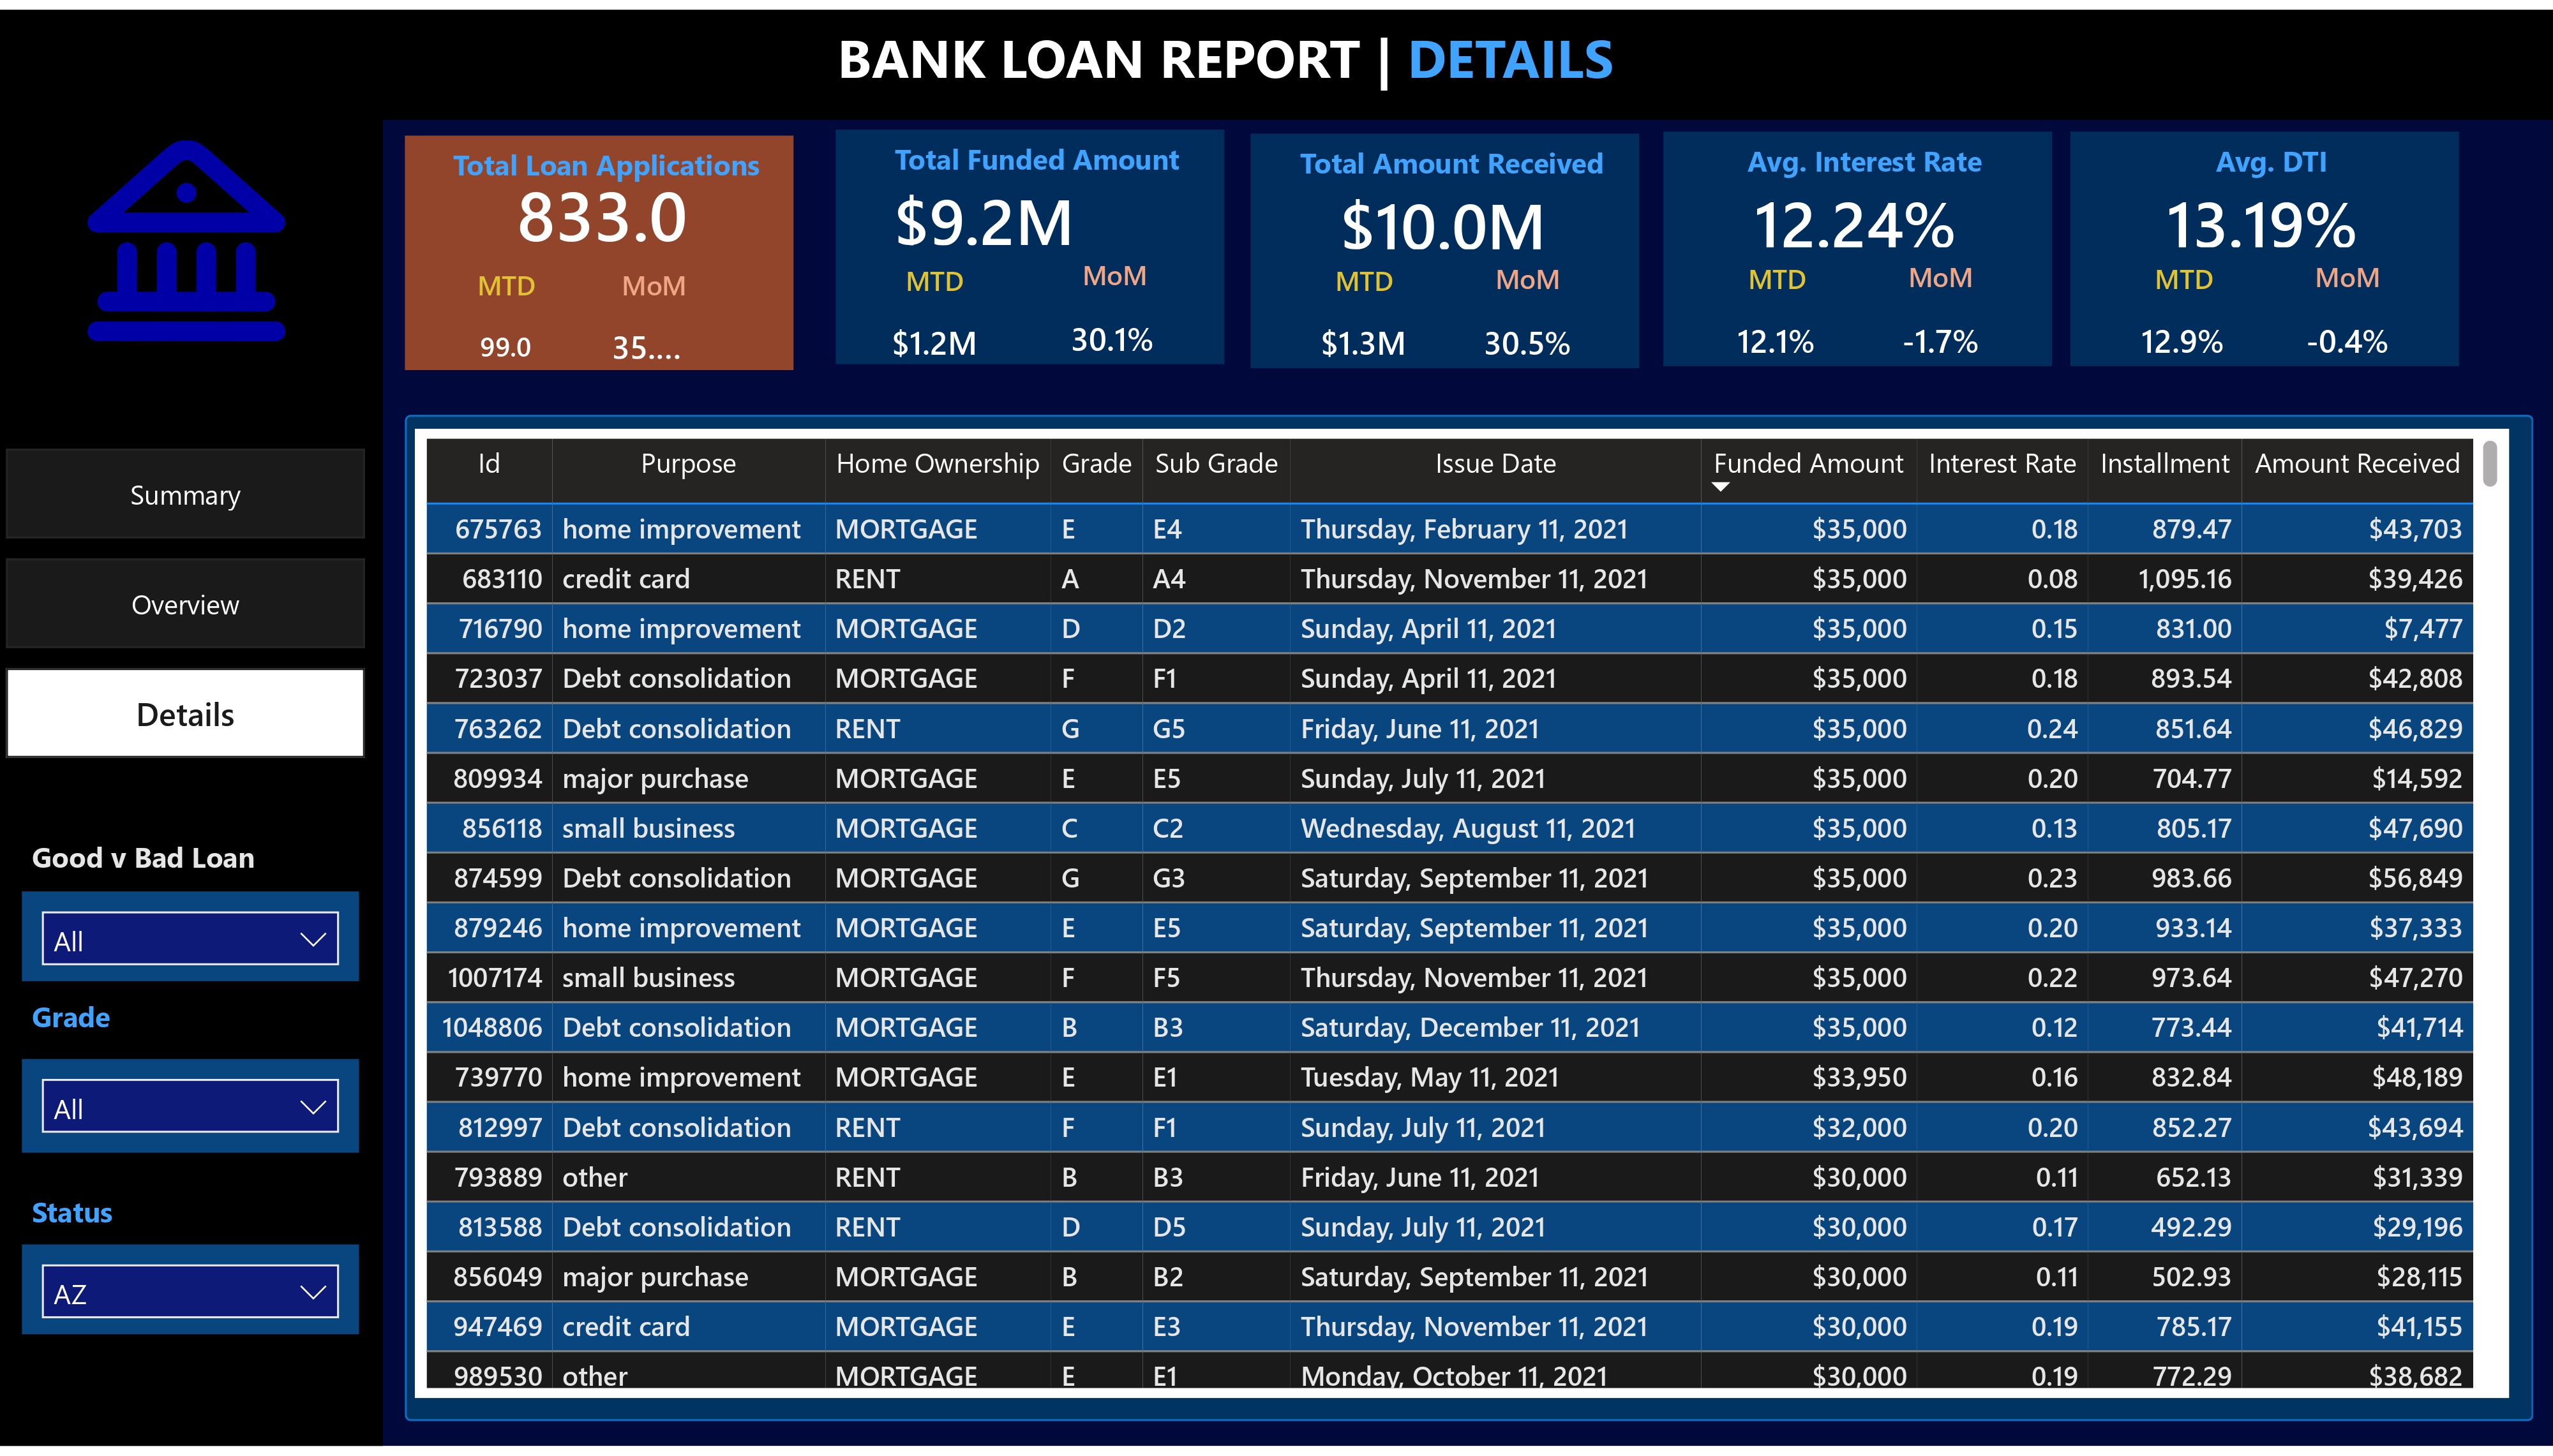

Layout of this report page (visuals, bound fields, positions):
{"tool":"powerbi","page":{"name":"Details","canvas":[1280,720],"ordinal":2},"visuals":[{"type":"shape","box":[0,0,1280,55],"z":0},{"type":"shape","box":[419.1,60,194.9,117.6],"z":0,"group":"g2"},{"type":"shape","box":[833.9,60.9,194.9,117.6],"z":0,"group":"g4"},{"type":"shape","box":[1037.5,60.9,194.9,117.6],"z":0,"group":"g5"},{"type":"shape","box":[627.3,61.8,194.9,117.6],"z":0,"group":"g3"},{"type":"shape","box":[203.3,63.3,194.9,117.6],"z":0,"group":"g1"},{"type":"shape","box":[0,55.4,192,665.2],"z":1000},{"type":"cardVisual","fields":{"Data":["Measure Table (2).Total Loan Applications"]},"box":[202.4,68.4,200.7,66],"z":1000,"group":"g1"},{"type":"cardVisual","fields":{"Data":["Measure Table (2).Total Funded Amount"]},"box":[419.1,72,193,63],"z":1000,"group":"g2"},{"type":"cardVisual","fields":{"Data":["Measure Table (2).Average Interest Rate"]},"box":[833.9,72.9,193,63],"z":1000,"group":"g4"},{"type":"cardVisual","fields":{"Data":["Measure Table (2).Total Avg DTI"]},"box":[1037.5,72.9,193,63],"z":1000,"group":"g5"},{"type":"cardVisual","fields":{"Data":["Measure Table (2).Total Received Amount"]},"box":[627.3,73.8,193,63],"z":1000,"group":"g3"},{"type":"textbox","box":[414.9,0,448.5,57.1],"z":2000},{"type":"textbox","box":[436.2,60.1,168,35],"z":2000,"group":"g2"},{"type":"textbox","box":[850.9,61,168,35],"z":2000,"group":"g4"},{"type":"textbox","box":[1054.5,61,168,35],"z":2000,"group":"g5"},{"type":"textbox","box":[644.3,61.9,168,35],"z":2000,"group":"g3"},{"type":"textbox","box":[220.4,63.4,168,35],"z":2000,"group":"g1"},{"type":"group","id":"g1","title":"Group 1","box":[202.4,63.3,200.7,129.5],"z":3000},{"type":"cardVisual","title":"MTD","fields":{"Data":["Measure Table (2).MTD Avg Interest Rate"]},"box":[830.9,125.6,120,64.5],"z":3000,"group":"g4"},{"type":"cardVisual","title":"MTD","fields":{"Data":["Measure Table (2).MTD Avg DTI"]},"box":[1034.5,125.6,120,64.5],"z":3000,"group":"g5"},{"type":"cardVisual","title":"MTD","fields":{"Data":["Measure Table (2).MTD Received Amount"]},"box":[624.3,126.5,120,64.5],"z":3000,"group":"g3"},{"type":"cardVisual","title":"MTD","fields":{"Data":["Measure Table (2).MTD Funded Amount"]},"box":[410,127.1,117.1,64.3],"z":3000,"group":"g2"},{"type":"cardVisual","title":"MTD","fields":{"Data":["Measure Table (2).MTD Loan Applications"]},"box":[208.4,129.4,91.7,63.3],"z":3000,"group":"g1"},{"type":"group","id":"g2","title":"Group 1","box":[410,60,204.3,131.4],"z":4000},{"type":"cardVisual","title":"MoM","fields":{"Data":["Measure Table (2).MoM Funded Amount"]},"box":[507.5,124,102,65.3],"z":4000,"group":"g2"},{"type":"cardVisual","title":"MoM","fields":{"Data":["Measure Table (2).MoM Avg Interest Rate"]},"box":[922.3,124.9,102,65.3],"z":4000,"group":"g4"},{"type":"cardVisual","title":"MoM","fields":{"Data":["Measure Table (2).MoM Avg DTI"]},"box":[1125.9,124.9,102,65.3],"z":4000,"group":"g5"},{"type":"cardVisual","title":"MoM","fields":{"Data":["Measure Table (2).MoM Received Amount"]},"box":[715.7,125.8,102,65.3],"z":4000,"group":"g3"},{"type":"cardVisual","title":"MoM","fields":{"Data":["Measure Table (2).MoM Loan Application"]},"box":[278.4,129.4,100,63.3],"z":4000,"group":"g1"},{"type":"group","id":"g3","title":"Group 1","box":[624.3,61.8,197.8,129.3],"z":5000},{"type":"group","id":"g4","title":"Group 1","box":[830.9,60.9,197.3,129.1],"z":6000},{"type":"shape","box":[202.7,202.7,1067.2,504.6],"z":7000},{"type":"group","id":"g5","title":"Group 1","box":[1034.5,60.9,197.3,129.1],"z":8000},{"type":"slicer","fields":{"Values":["financial_loan.Good Loan Vs Bad Loan"]},"box":[11.3,442.2,168.7,45.4],"z":9000},{"type":"slicer","fields":{"Values":["financial_loan.grade"]},"box":[11.3,525.8,168.7,46.8],"z":10000},{"type":"slicer","fields":{"Values":["financial_loan.address_state"]},"box":[11.3,619.4,168.7,45.4],"z":11000},{"type":"textbox","box":[11.3,588.2,126.1,31.2],"z":12000},{"type":"textbox","box":[11.3,409.6,148.8,31.2],"z":13000},{"type":"textbox","box":[11.3,490.4,126.1,35.4],"z":14000},{"type":"tableEx","fields":{"Values":["financial_loan.id","financial_loan.purpose","financial_loan.home_ownership","financial_loan.grade","financial_loan.sub_grade","financial_loan.issue_date","Measure Table (2).Total Funded Amount","Sum(financial_loan.int_rate)","Sum(financial_loan.installment)","Measure Table (2).Total Received Amount"]},"box":[208.3,209.8,1050.2,486.1],"z":15000},{"type":"pageNavigator","box":[2.8,219.7,180,155.9],"z":16000},{"type":"image","box":[31.2,56.7,124.7,119.1],"z":17000}]}

Visuals, with their boxes in screenshot pixels (x1, y1, x2, y2), scaled from the page's 1280x720 canvas onto the 2553x1456 screenshot:
shape: crop(0, 0, 2552, 111)
shape: crop(836, 121, 1225, 359)
shape: crop(1663, 123, 2052, 361)
shape: crop(2069, 123, 2458, 361)
shape: crop(1251, 125, 1640, 363)
shape: crop(405, 128, 794, 366)
shape: crop(0, 112, 383, 1455)
cardVisual - Measure Table (2).Total Loan Applications: crop(403, 138, 804, 272)
cardVisual - Measure Table (2).Total Funded Amount: crop(836, 145, 1221, 273)
cardVisual - Measure Table (2).Average Interest Rate: crop(1663, 147, 2048, 275)
cardVisual - Measure Table (2).Total Avg DTI: crop(2069, 147, 2454, 275)
cardVisual - Measure Table (2).Total Received Amount: crop(1251, 149, 1636, 277)
textbox: crop(828, 0, 1722, 115)
textbox: crop(870, 121, 1205, 192)
textbox: crop(1697, 123, 2032, 194)
textbox: crop(2103, 123, 2438, 194)
textbox: crop(1285, 125, 1620, 196)
textbox: crop(440, 128, 775, 199)
"Group 1" group: crop(403, 128, 804, 390)
"MTD" cardVisual: crop(1658, 254, 1897, 385)
"MTD" cardVisual: crop(2063, 254, 2303, 385)
"MTD" cardVisual: crop(1245, 256, 1485, 386)
"MTD" cardVisual: crop(818, 257, 1051, 387)
"MTD" cardVisual: crop(416, 262, 599, 390)
"Group 1" group: crop(818, 121, 1225, 387)
"MoM" cardVisual: crop(1012, 251, 1216, 383)
"MoM" cardVisual: crop(1839, 253, 2043, 385)
"MoM" cardVisual: crop(2245, 253, 2449, 385)
"MoM" cardVisual: crop(1428, 255, 1631, 387)
"MoM" cardVisual: crop(555, 262, 754, 390)
"Group 1" group: crop(1245, 125, 1640, 387)
"Group 1" group: crop(1658, 123, 2051, 384)
shape: crop(404, 410, 2533, 1430)
"Group 1" group: crop(2063, 123, 2457, 384)
slicer - financial_loan.Good Loan Vs Bad Loan: crop(22, 895, 359, 986)
slicer - financial_loan.grade: crop(22, 1063, 359, 1158)
slicer - financial_loan.address_state: crop(22, 1252, 359, 1344)
textbox: crop(22, 1189, 274, 1252)
textbox: crop(22, 828, 319, 891)
textbox: crop(22, 992, 274, 1063)
tableEx - financial_loan.id x financial_loan.purpose: crop(416, 424, 2510, 1408)
pageNavigator: crop(6, 444, 364, 759)
image: crop(63, 115, 311, 355)
